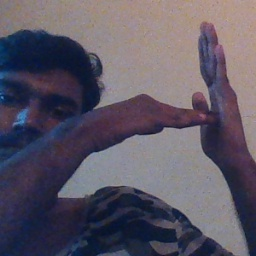Z: (129, 21, 246, 172)
